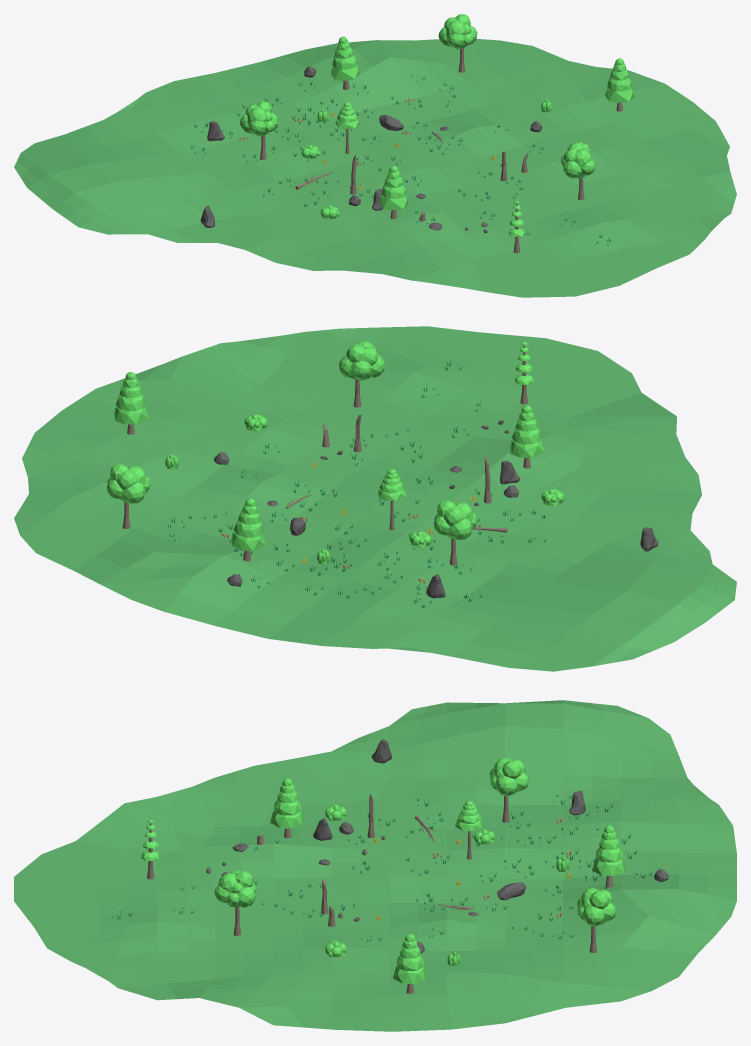
The model's file is forest.glb.
The picture shows the model from 3 angles, top to bottom: view 1: azimuth 30°, elevation 25°; view 2: azimuth 150°, elevation 25°; view 3: azimuth 270°, elevation 25°; orthographic projection. The views are drawn at different scales.
Parts seen in each view (by area): view 1: Plane_0, Sphere.001_193, Sphere.025_230, Sphere.002_194, Sphere.003_195, Sphere.004_196, Sphere.026_231, Sphere.027_232; view 2: Plane_0, Sphere.001_193, Sphere.025_230, Sphere.002_194, Sphere.004_196, Sphere.026_231, Sphere.003_195, Sphere.027_232, Sphere.024_229; view 3: Plane_0, Sphere.002_194, Sphere.001_193, Sphere.025_230, Sphere.004_196, Sphere.003_195, Sphere.026_231, Sphere.027_232, Sphere.024_229.
Part boxes in pixels (x1,y1,x2,y2): Plane_0: [14, 39, 736, 297]; Sphere.001_193: [240, 101, 278, 159]; Sphere.025_230: [438, 14, 477, 72]; Sphere.002_194: [561, 142, 595, 200]; Sphere.003_195: [379, 165, 408, 219]; Sphere.004_196: [330, 36, 360, 89]; Sphere.026_231: [605, 58, 634, 111]; Sphere.027_232: [335, 102, 359, 153]; Plane_0: [14, 326, 736, 671]; Sphere.001_193: [434, 500, 477, 565]; Sphere.025_230: [107, 464, 150, 528]; Sphere.002_194: [339, 341, 384, 407]; Sphere.004_196: [231, 498, 265, 561]; Sphere.026_231: [114, 372, 148, 434]; Sphere.003_195: [510, 405, 544, 468]; Sphere.027_232: [378, 469, 406, 530]; Sphere.024_229: [514, 342, 534, 404]; Plane_0: [14, 700, 736, 1031]; Sphere.002_194: [214, 870, 256, 935]; Sphere.001_193: [489, 758, 528, 822]; Sphere.025_230: [577, 888, 616, 952]; Sphere.004_196: [592, 825, 625, 887]; Sphere.003_195: [270, 778, 304, 838]; Sphere.026_231: [393, 934, 426, 993]; Sphere.027_232: [455, 800, 483, 859]; Sphere.024_229: [141, 819, 159, 879].
Bounding box in the file's own units: 283 × 28.15 × 264.
